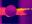Hotspot: (17, 8, 25, 12)
